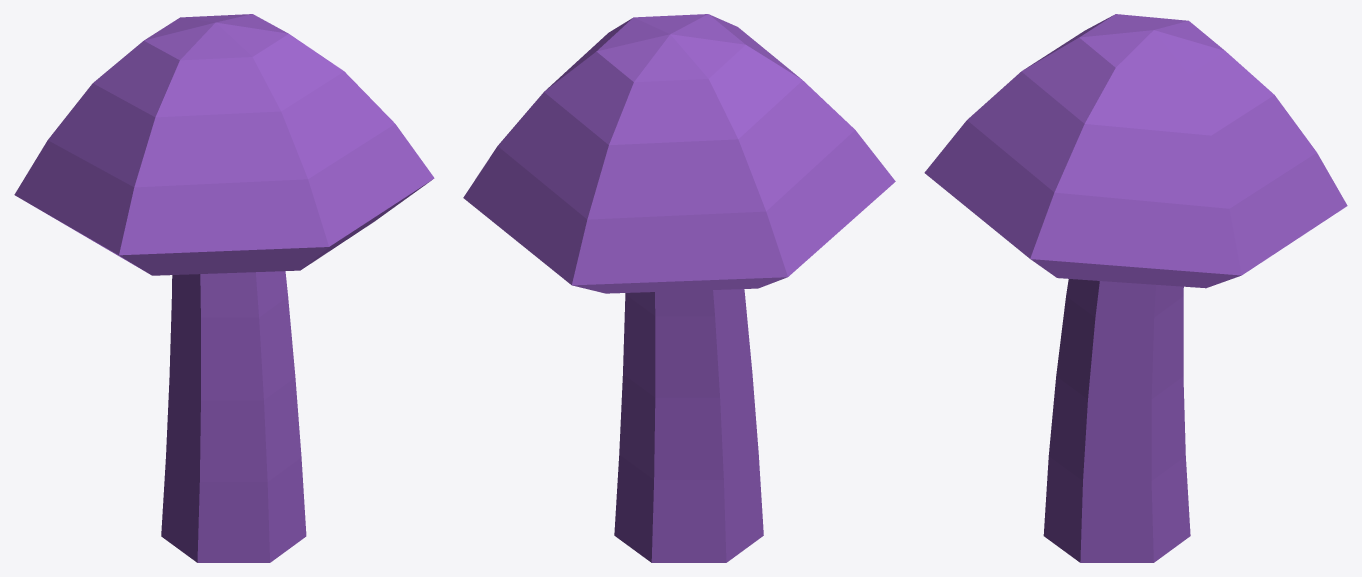
The model's file is Mushroom.fbx.
The picture shows the model from 3 angles, left to right: view 1: azimuth 30°, elevation 25°; view 2: azimuth 150°, elevation 25°; view 3: azimuth 270°, elevation 25°; orthographic projection. The views are drawn at different scales.
Parts seen in each view (by area): view 1: Sphere, Cylinder; view 2: Sphere, Cylinder; view 3: Sphere, Cylinder.
Part boxes in pixels (x1,y1,x2,y2): Sphere: [14, 14, 434, 275]; Cylinder: [161, 271, 306, 562]; Sphere: [463, 14, 895, 293]; Cylinder: [614, 289, 763, 562]; Sphere: [924, 14, 1347, 288]; Cylinder: [1043, 279, 1190, 562].
Bounding box in the file's own units: 251 × 380 × 288.
